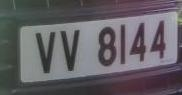1: (117, 19, 131, 72)
4: (147, 14, 170, 66), (127, 17, 149, 70)
8: (96, 20, 119, 74)
V: (57, 26, 82, 76), (33, 28, 59, 76)
